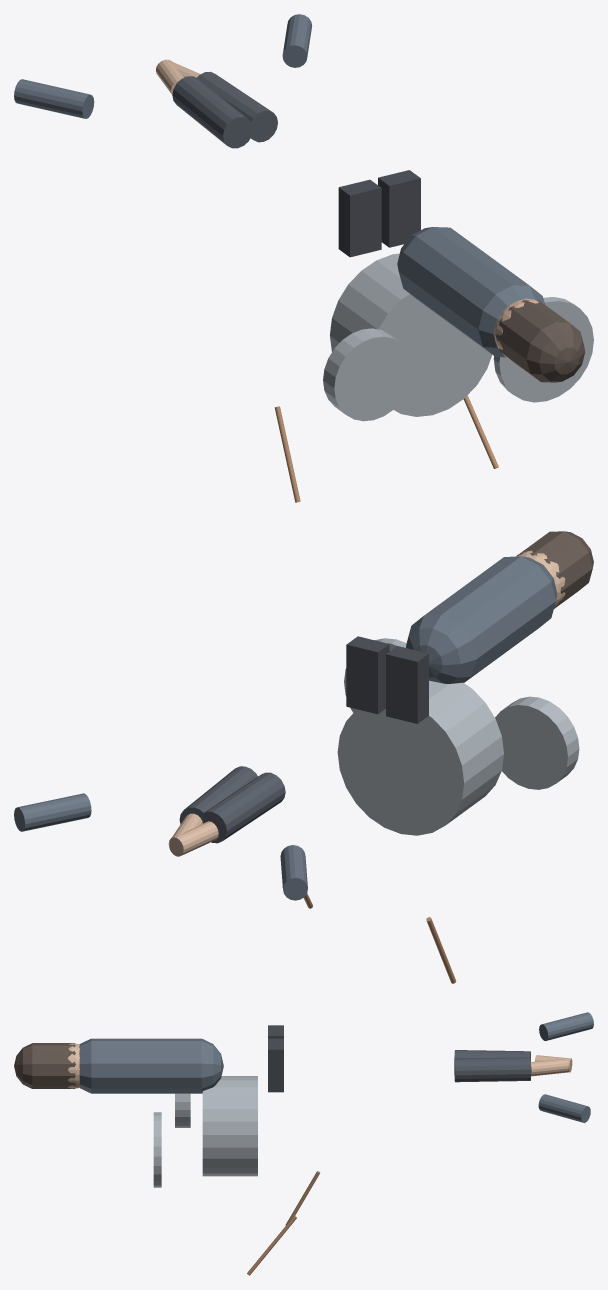
The model's file is drummer.glb.
The picture shows the model from 3 angles, top to bottom: view 1: azimuth 30°, elevation 25°; view 2: azimuth 150°, elevation 25°; view 3: azimuth 270°, elevation 25°; orthographic projection. The views are drawn at different scales.
Parts seen in each view (by area): view 1: bass_drum, Drummer_torso, snare_drum, Drummer_hair, cymbal, Drummer_shoe_L, Drummer_leg_R, Drummer_shoe_R, Drummer_upper_arm_L, Drummer_leg_L, Drummer_upper_arm_R; view 2: bass_drum, Drummer_torso, snare_drum, Drummer_shoe_L, Drummer_shoe_R, Drummer_leg_R, Drummer_hair, Drummer_upper_arm_R, Drummer_leg_L, Drummer_upper_arm_L, Drummer_forearm_R, Drummer_head; view 3: Drummer_torso, bass_drum, Drummer_hair, Drummer_leg_L, Drummer_upper_arm_L, Drummer_upper_arm_R, Drummer_shoe_R, cymbal, Drummer_leg_R, Drummer_forearm_L, snare_drum, Drummer_head.
Boxes of the visible parts, box(x1,y1,x2,y2) form: bass_drum: box(330, 253, 492, 416); Drummer_torso: box(397, 227, 544, 357); snare_drum: box(323, 328, 412, 421); Drummer_hair: box(496, 300, 585, 382); cymbal: box(493, 297, 593, 402); Drummer_shoe_L: box(338, 179, 381, 257); Drummer_leg_R: box(172, 76, 252, 148); Drummer_shoe_R: box(378, 170, 420, 247); Drummer_upper_arm_L: box(14, 79, 94, 118); Drummer_leg_L: box(197, 71, 277, 142); Drummer_upper_arm_R: box(282, 14, 311, 67); bass_drum: box(337, 680, 503, 835); Drummer_torso: box(406, 556, 557, 683); snare_drum: box(495, 696, 579, 789); Drummer_shoe_L: box(386, 646, 428, 723); Drummer_shoe_R: box(346, 636, 389, 714); Drummer_leg_R: box(203, 772, 285, 843); Drummer_hair: box(517, 531, 593, 606); Drummer_upper_arm_R: box(14, 793, 91, 831); Drummer_leg_L: box(179, 766, 257, 824); Drummer_upper_arm_L: box(280, 845, 307, 900); Drummer_forearm_R: box(168, 821, 218, 856); Drummer_head: box(516, 550, 565, 608); Drummer_torso: box(79, 1038, 223, 1093); bass_drum: box(202, 1076, 257, 1176); Drummer_hair: box(14, 1043, 75, 1088); Drummer_leg_L: box(454, 1057, 530, 1082); Drummer_upper_arm_L: box(539, 1012, 593, 1040); Drummer_upper_arm_R: box(538, 1094, 590, 1122); Drummer_shoe_R: box(268, 1038, 283, 1092); cymbal: box(153, 1112, 161, 1187); Drummer_leg_R: box(454, 1050, 530, 1061); Drummer_forearm_L: box(530, 1059, 569, 1076); snare_drum: box(175, 1093, 190, 1127); Drummer_head: box(68, 1043, 79, 1088).
Size of the model in its own units: 1.5 by 1.5 by 3.67.
